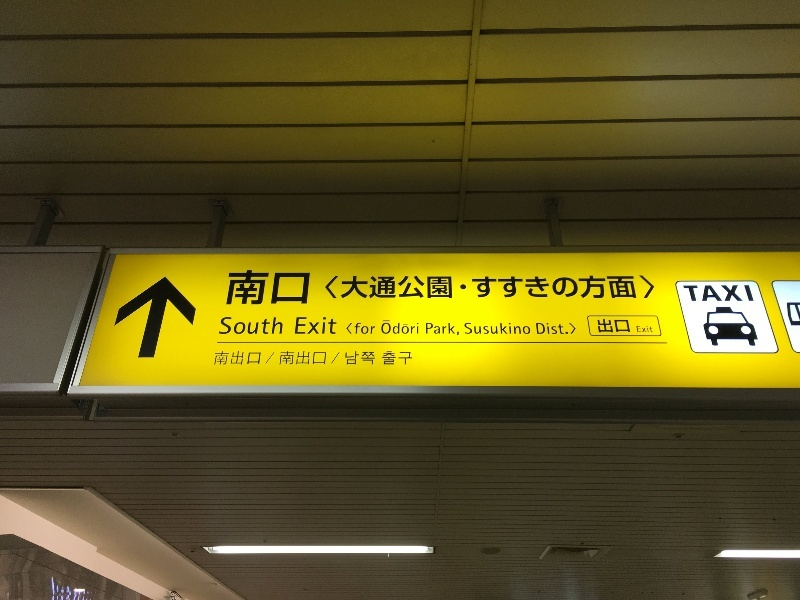text: (241, 270, 256, 305), (257, 270, 272, 305), (273, 270, 288, 305), (289, 270, 304, 305), (229, 270, 240, 305), (481, 275, 496, 299), (497, 275, 512, 299), (513, 275, 528, 299), (529, 275, 544, 299), (545, 275, 560, 299), (561, 275, 576, 299), (577, 275, 592, 299), (593, 275, 608, 299), (609, 275, 624, 299), (625, 275, 640, 299), (337, 276, 352, 299), (353, 276, 368, 299), (369, 276, 384, 299), (385, 276, 400, 299), (401, 276, 416, 299), (417, 276, 432, 299), (433, 276, 448, 299), (641, 275, 655, 299), (225, 316, 240, 335), (241, 316, 256, 335), (257, 316, 272, 335), (321, 317, 337, 334), (305, 317, 320, 334), (689, 285, 704, 302), (705, 285, 720, 302), (721, 285, 736, 302), (737, 285, 752, 302), (326, 276, 336, 299), (225, 351, 240, 366), (241, 351, 256, 366), (353, 351, 368, 365), (369, 351, 384, 365), (385, 351, 400, 365), (385, 320, 400, 334), (401, 320, 416, 334), (609, 319, 624, 333), (289, 351, 304, 365), (305, 351, 320, 365), (273, 316, 284, 335), (472, 275, 480, 299), (561, 323, 577, 335), (433, 323, 448, 335), (545, 323, 560, 335), (305, 270, 310, 305), (401, 351, 413, 365), (353, 323, 368, 334), (465, 323, 480, 334), (481, 323, 496, 334), (497, 323, 512, 334), (513, 323, 528, 334), (597, 319, 608, 333), (449, 323, 459, 335), (216, 351, 224, 366), (297, 317, 304, 334), (281, 351, 288, 365), (536, 323, 544, 335), (641, 326, 654, 333), (683, 285, 688, 302), (346, 351, 352, 365), (625, 319, 631, 333), (321, 351, 327, 365), (369, 323, 376, 334), (220, 316, 224, 335), (257, 351, 262, 366), (426, 323, 432, 335), (449, 276, 452, 299), (347, 323, 352, 334), (382, 320, 384, 334), (417, 320, 419, 334), (636, 326, 640, 333), (529, 323, 531, 334), (753, 285, 754, 302)
